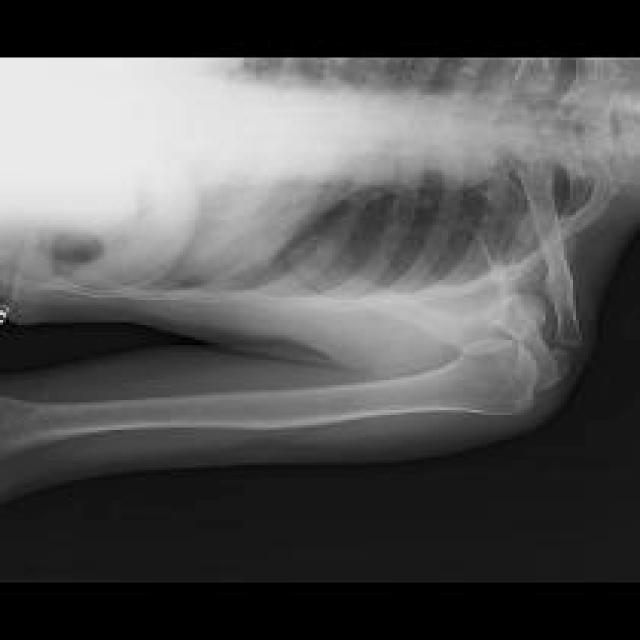normal: (0, 342, 538, 453)
